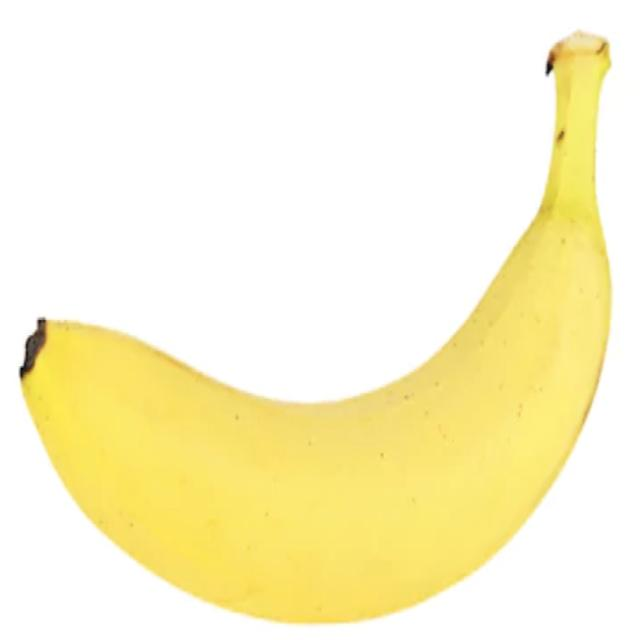fresh-banana: (18, 28, 614, 624)
